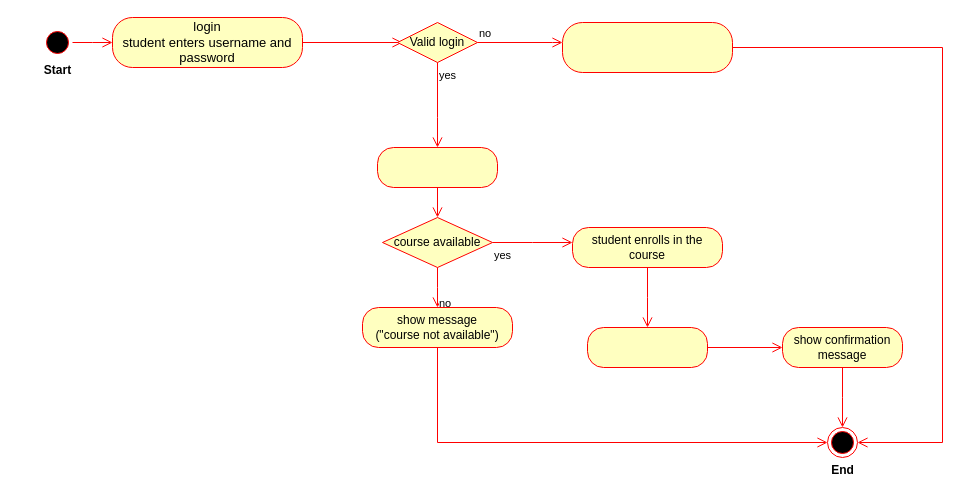
The diagram is 970 pixels wide and 501 high, and some of its shapes have lost their labels. The shapes that lost their labels are listed below. From the top down, each one's centre as x and y in pixels, then its label:
[647,47]: Show message ("Invalid username or password")
[437,167]: student selects a course
[647,347]: update data in the files
